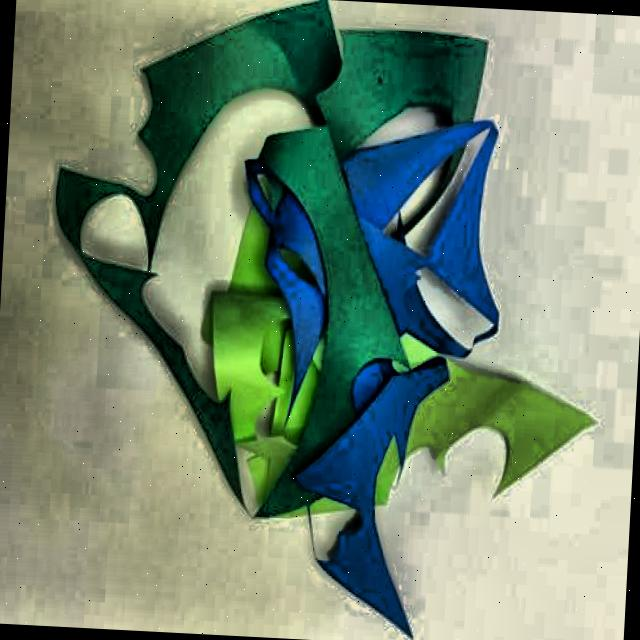paper: (52, 0, 543, 622)
